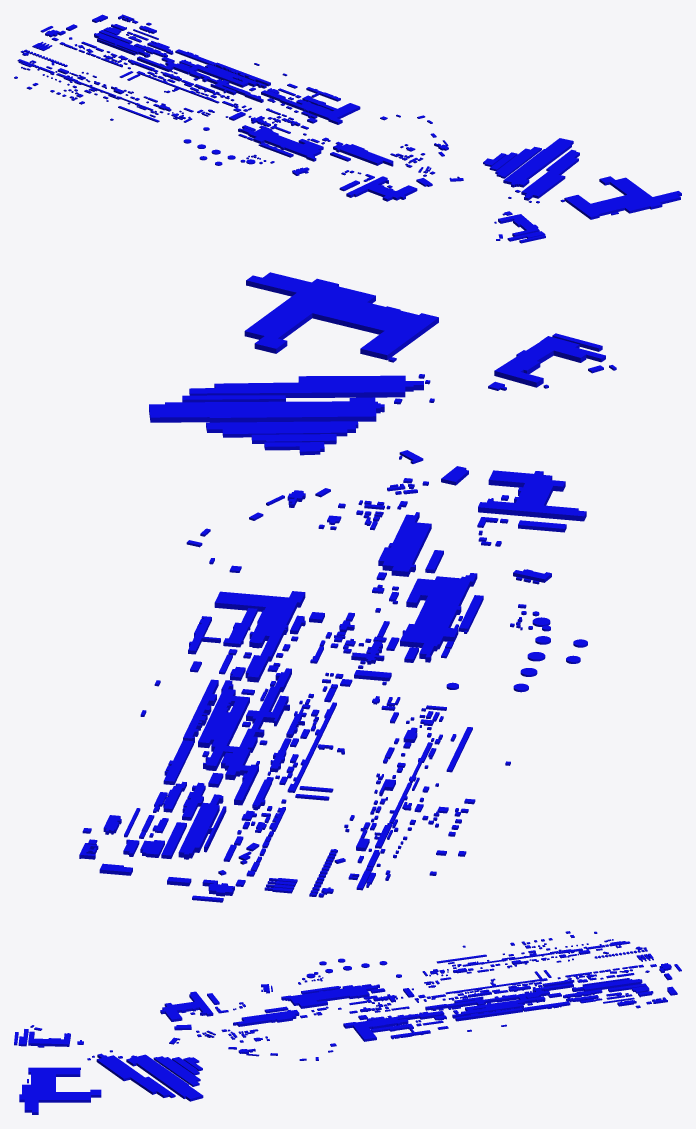
3 views of the same model, one above another, from view 1: azimuth 30°, elevation 25°; view 2: azimuth 150°, elevation 25°; view 3: azimuth 270°, elevation 25° (orthographic). The views are drawn at different scales.
Parts seen in each view (by area): view 1: 1984.018; view 2: 1984.018; view 3: 1984.018.
Boxes of the visible parts, x1,y1,x2,y2 form: 1984.018: (14,14,681,243); 1984.018: (79,272,616,902); 1984.018: (14,931,681,1114).
Size of the model in its own units: 2321 by 18.97 by 3584.
